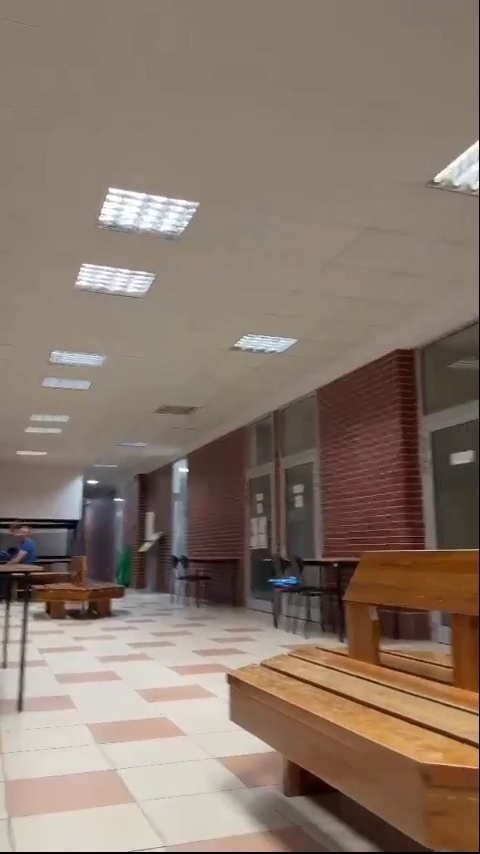drone: (270, 577, 304, 589)
no vest: (2, 521, 38, 578)
